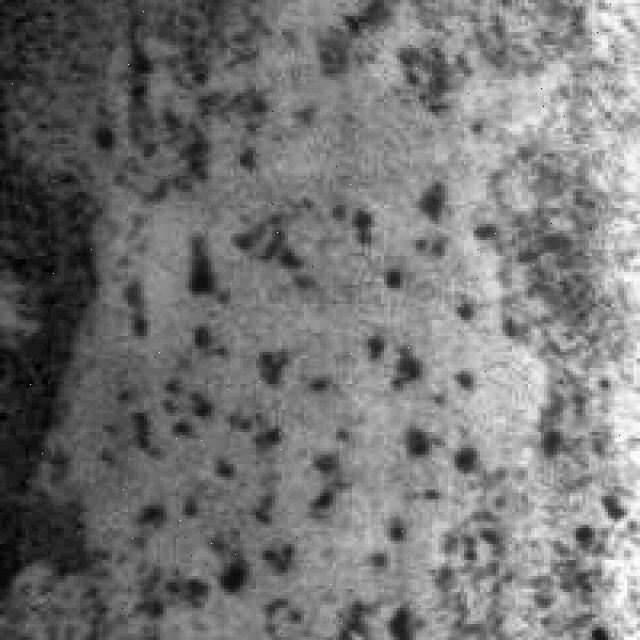Rolled_in_Scale: (135, 12, 548, 612)
